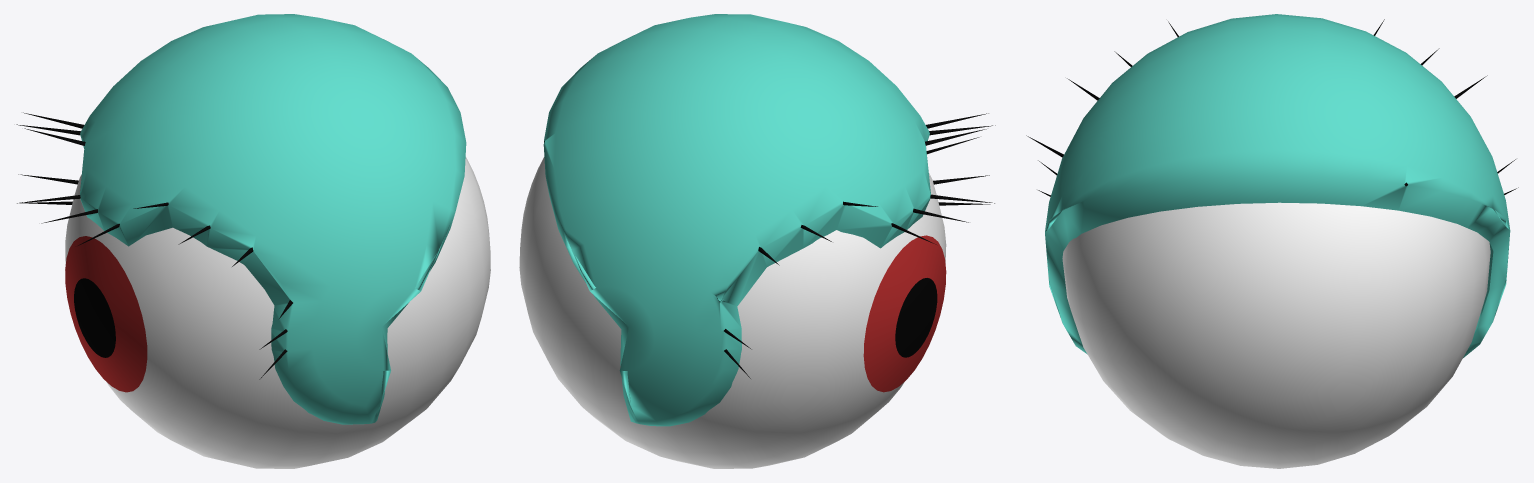
Rendered from Eye_Am_1_Angry_Babeh.fbx.
3 renders of one model, left to right at view 1: azimuth 30°, elevation 25°; view 2: azimuth 150°, elevation 25°; view 3: azimuth 270°, elevation 25°, orthographic.
Visible parts, largest first — view 1: Sphere005, Sphere001; view 2: Sphere005, Sphere001; view 3: Sphere001, Sphere005.
Part boxes in pixels (box(x1,y1,x2,y2)): Sphere005: box(16, 14, 466, 424); Sphere001: box(65, 157, 490, 468); Sphere005: box(543, 14, 995, 426); Sphere001: box(519, 157, 946, 468); Sphere001: box(1062, 202, 1490, 468); Sphere005: box(1026, 14, 1518, 357).
Bounding box in the file's own units: 6424 × 5986 × 6479.
